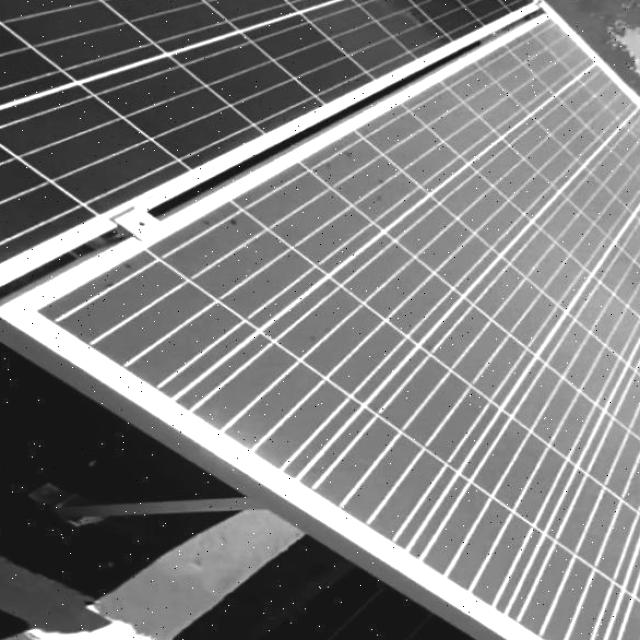Normal Solar Panel: (0, 0, 545, 306)
